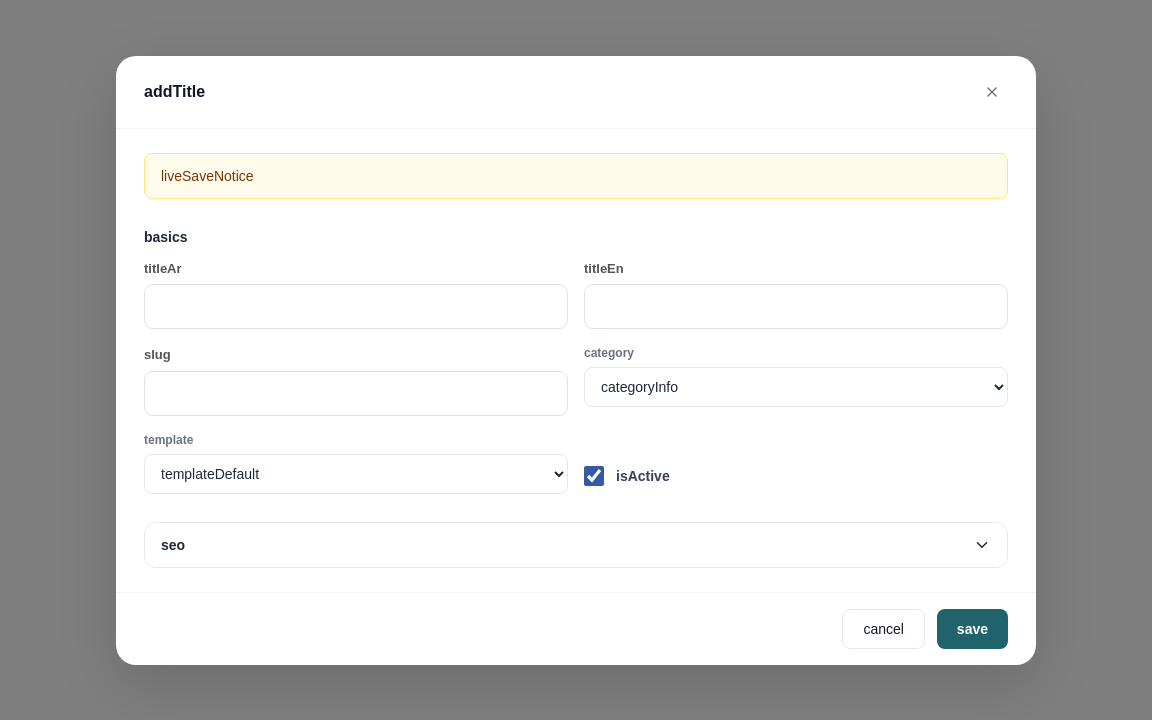
CmsPageDialog homepage behavior › shows a reload-and-retry message for a media concurrency conflict
Type "من نحن" into the field labelled "titleAr" at [356, 306], box [144, 284, 568, 329]
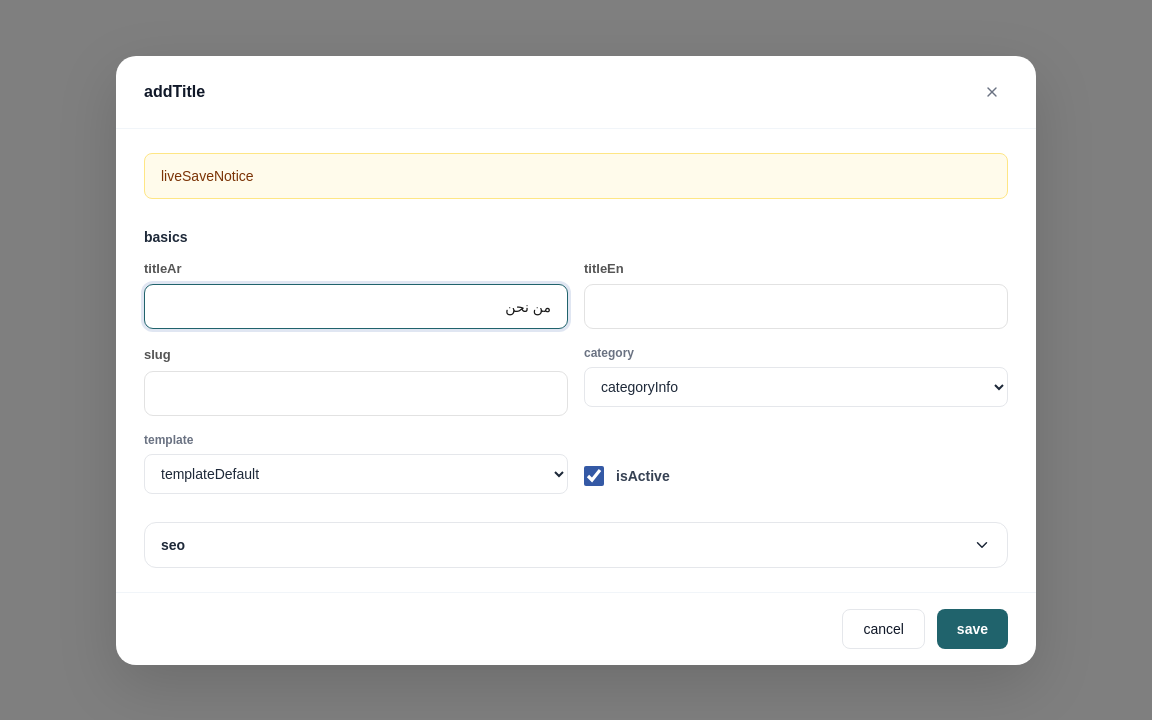
Type "About us" into the field labelled "titleEn" at [796, 306], box [584, 284, 1008, 329]
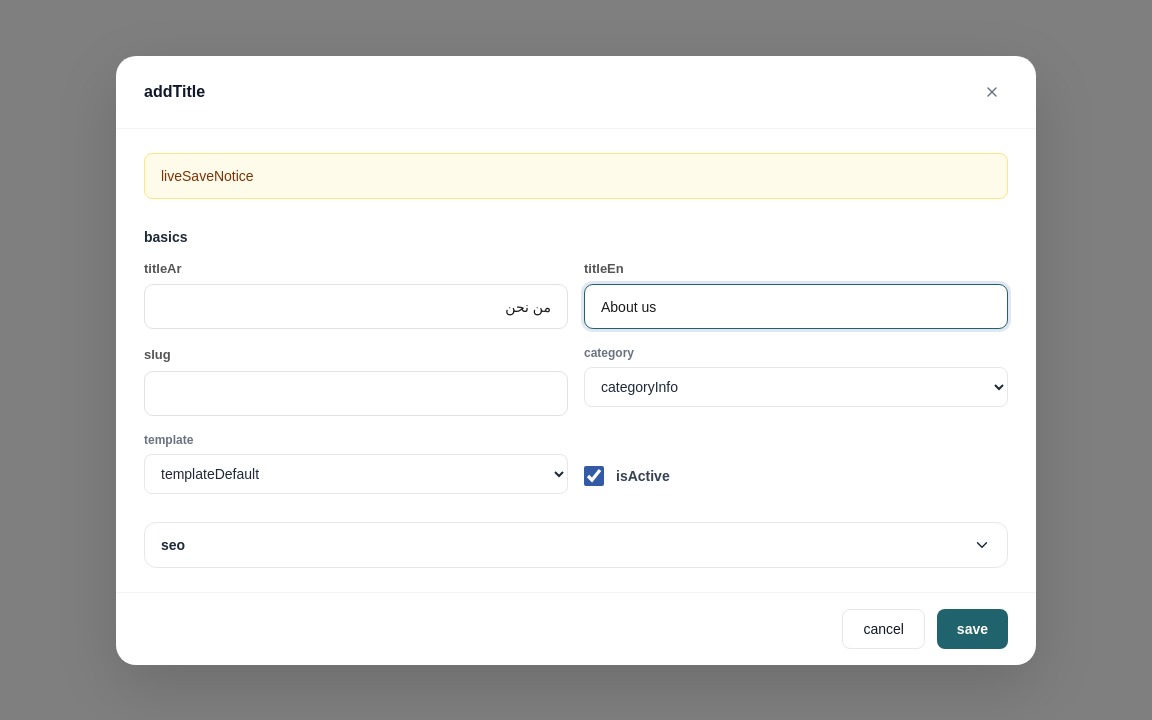
Type "about-us" into the field labelled "slug" at [356, 393], box [144, 370, 568, 416]
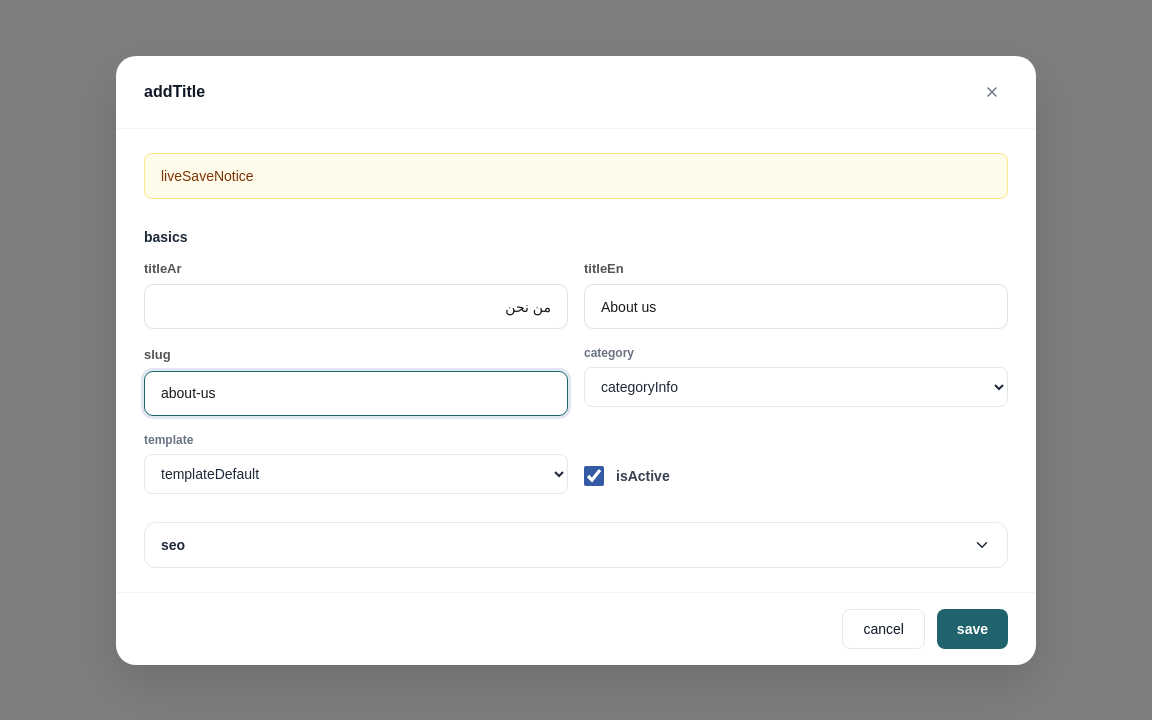
Click the button "save" at [972, 628], box [937, 608, 1008, 648]
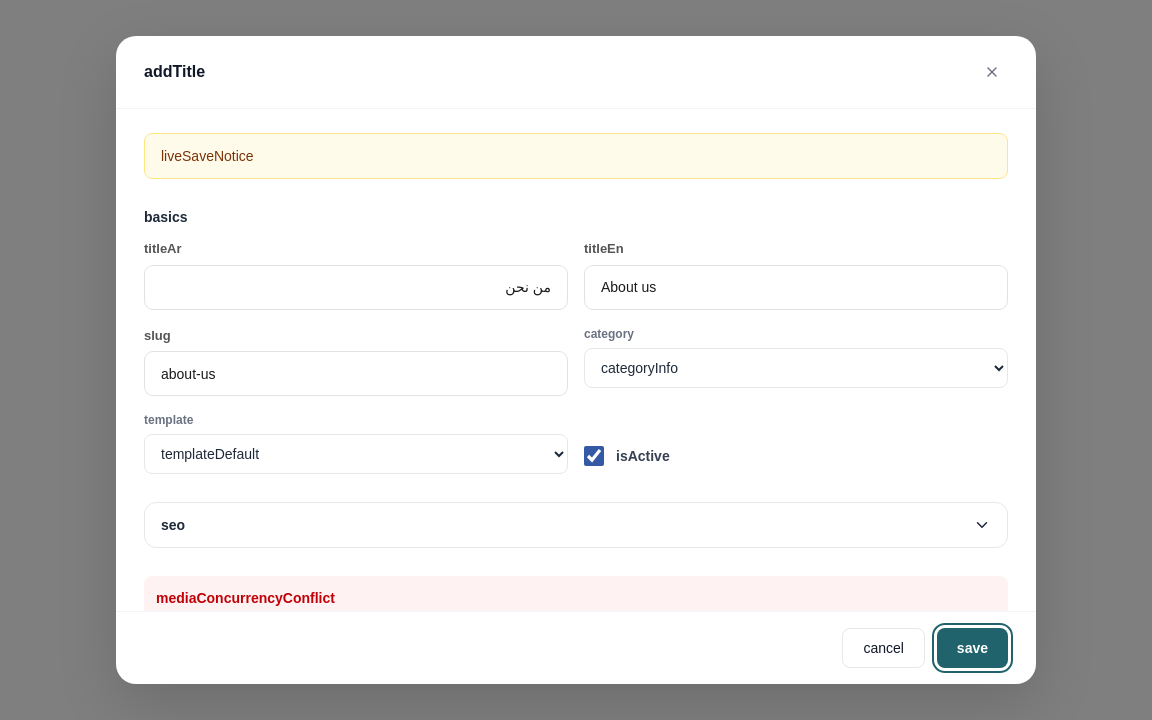
Now the message reads "mediaConcurrencyConflict", box [156, 590, 335, 606]
